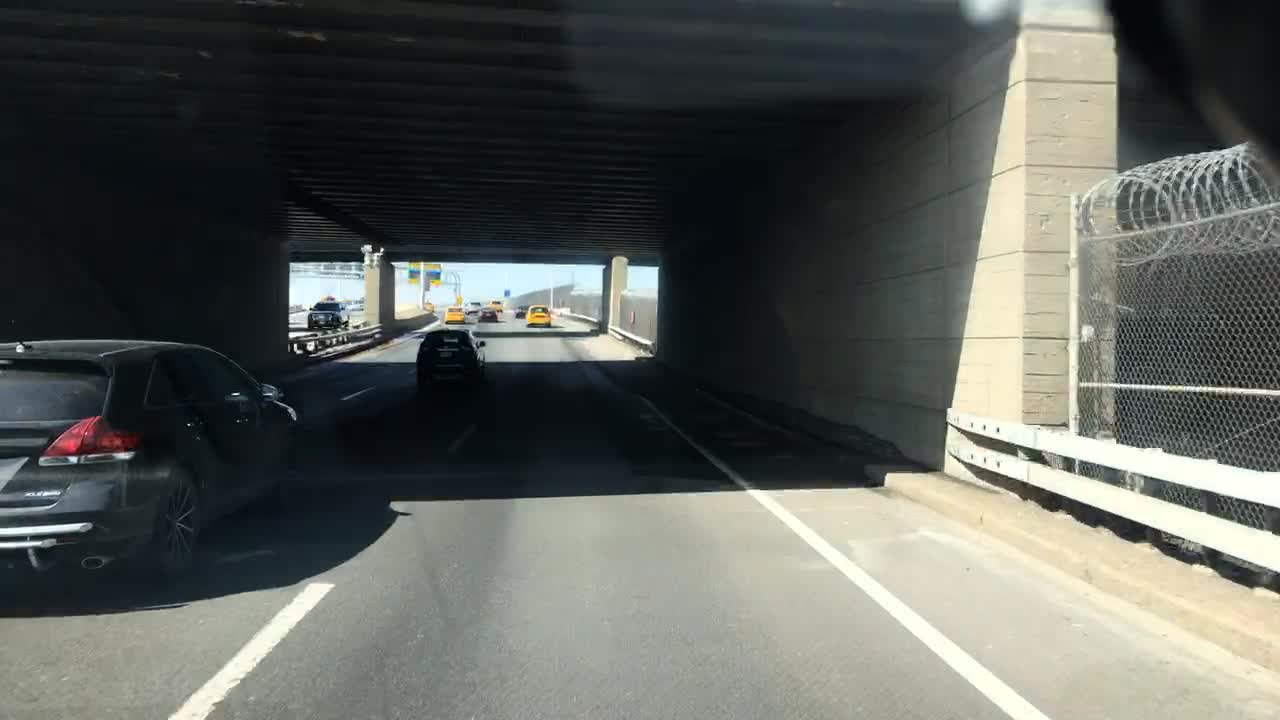car: (0, 334, 299, 581), (415, 327, 487, 385), (305, 299, 350, 331), (523, 302, 552, 329), (441, 304, 466, 324), (465, 300, 481, 316), (488, 298, 503, 314), (512, 304, 529, 318), (420, 299, 435, 311)
traffic sign: (407, 261, 441, 286)
